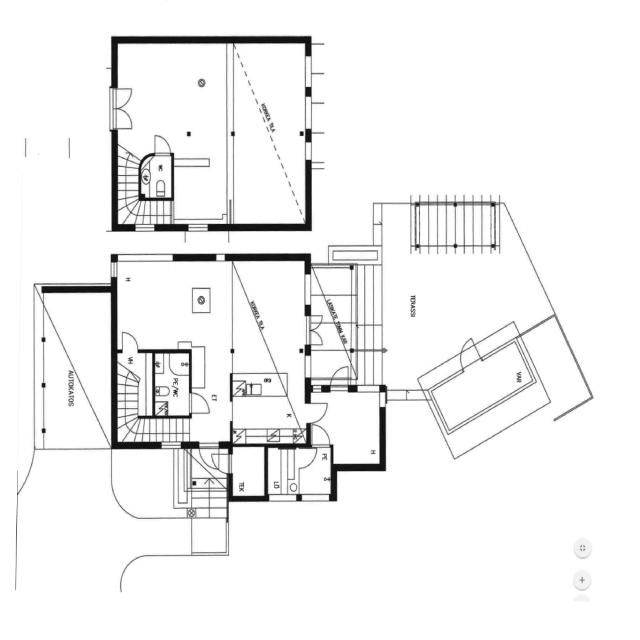door: (188, 443, 218, 486), (109, 84, 136, 130), (196, 441, 222, 472), (304, 312, 326, 348), (187, 390, 212, 415), (306, 399, 330, 425), (118, 328, 142, 354), (212, 449, 235, 475), (329, 363, 352, 388), (151, 132, 174, 156), (296, 446, 318, 470), (311, 423, 332, 448)
window: (116, 250, 176, 264), (37, 383, 49, 434), (302, 91, 314, 132), (303, 52, 314, 92), (302, 270, 312, 309), (157, 438, 185, 451), (354, 382, 384, 393), (266, 493, 299, 503), (300, 492, 331, 502), (185, 221, 211, 232), (303, 354, 313, 380), (133, 222, 158, 232), (378, 387, 388, 410), (109, 258, 119, 280), (227, 398, 235, 425), (304, 139, 313, 163), (310, 381, 324, 394), (213, 252, 228, 262)
zone: (228, 36, 309, 231), (229, 258, 307, 445), (114, 41, 230, 150), (115, 258, 234, 352), (322, 389, 383, 466), (228, 391, 306, 444), (312, 262, 358, 346), (153, 351, 190, 419), (230, 445, 267, 498), (141, 153, 173, 199)
